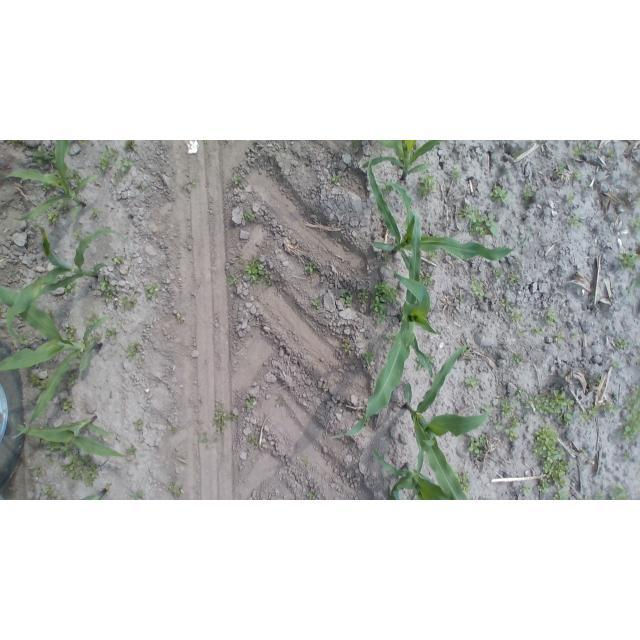Maize: (332, 214, 441, 438), (367, 156, 528, 273), (1, 285, 114, 441), (5, 224, 126, 345), (401, 342, 491, 500), (3, 140, 101, 222), (368, 446, 468, 500), (14, 415, 126, 460), (361, 140, 447, 184), (79, 488, 109, 500)
Weeds: (535, 424, 570, 492), (516, 389, 577, 426), (370, 279, 399, 326), (460, 204, 498, 238), (620, 388, 640, 443), (62, 452, 95, 484), (245, 258, 276, 289), (215, 399, 238, 433), (30, 147, 56, 168), (100, 274, 119, 302), (504, 414, 523, 441), (47, 203, 68, 226), (468, 434, 488, 458), (99, 146, 118, 171), (571, 140, 597, 158), (618, 251, 640, 272), (417, 173, 435, 198), (621, 277, 640, 299), (498, 393, 515, 417), (456, 470, 472, 494), (490, 185, 508, 204), (126, 340, 143, 360), (581, 406, 600, 423), (609, 485, 630, 500), (585, 374, 604, 390), (29, 374, 48, 390), (471, 278, 486, 298), (168, 482, 185, 498), (119, 157, 134, 174), (145, 282, 159, 300), (341, 289, 355, 307), (508, 309, 524, 324), (60, 441, 74, 458), (120, 295, 137, 309), (552, 488, 570, 501), (68, 169, 83, 184), (42, 485, 57, 500), (225, 271, 239, 287), (602, 401, 618, 415), (60, 397, 74, 413), (555, 162, 568, 179), (362, 347, 374, 365), (615, 336, 630, 350), (567, 214, 582, 228), (46, 441, 64, 452), (85, 314, 100, 327), (450, 167, 463, 182), (544, 310, 557, 325), (133, 417, 146, 431), (304, 261, 317, 275), (491, 267, 505, 280), (464, 376, 478, 389), (66, 325, 78, 340), (247, 435, 259, 450), (123, 141, 139, 152), (104, 327, 117, 340), (63, 282, 77, 294), (421, 274, 433, 287), (357, 290, 369, 303), (244, 209, 256, 222), (508, 271, 521, 283), (523, 186, 534, 200), (197, 433, 211, 444), (630, 219, 640, 234), (188, 177, 200, 189), (500, 298, 512, 310), (519, 484, 531, 496), (512, 352, 523, 365), (493, 418, 503, 432), (553, 332, 565, 343), (176, 312, 187, 324), (384, 182, 394, 195), (461, 344, 471, 357), (68, 372, 78, 385), (132, 490, 145, 500), (361, 415, 372, 426), (330, 173, 341, 184), (246, 397, 257, 408), (609, 361, 621, 371), (385, 333, 397, 343), (313, 299, 323, 311), (73, 228, 83, 240), (416, 358, 425, 371), (31, 466, 41, 477), (578, 449, 590, 458), (7, 140, 25, 146), (232, 176, 244, 185), (39, 182, 51, 191), (532, 326, 544, 335), (383, 251, 393, 261), (276, 398, 286, 408), (126, 447, 136, 457), (594, 492, 605, 501), (481, 404, 492, 413), (572, 170, 581, 181), (428, 251, 439, 260), (113, 257, 124, 266), (114, 171, 123, 182), (90, 208, 99, 219), (342, 341, 351, 352), (426, 353, 435, 364), (517, 329, 529, 337), (307, 492, 317, 501), (301, 456, 310, 466), (622, 451, 631, 461), (513, 149, 523, 158), (566, 193, 575, 203), (571, 332, 580, 341), (607, 149, 616, 158), (322, 383, 330, 393), (636, 349, 640, 368), (48, 307, 54, 318), (513, 257, 521, 265), (458, 297, 465, 306), (46, 458, 55, 465), (97, 434, 104, 443), (76, 141, 88, 146), (170, 427, 178, 434), (583, 185, 592, 191), (93, 337, 100, 344), (528, 141, 535, 146)
